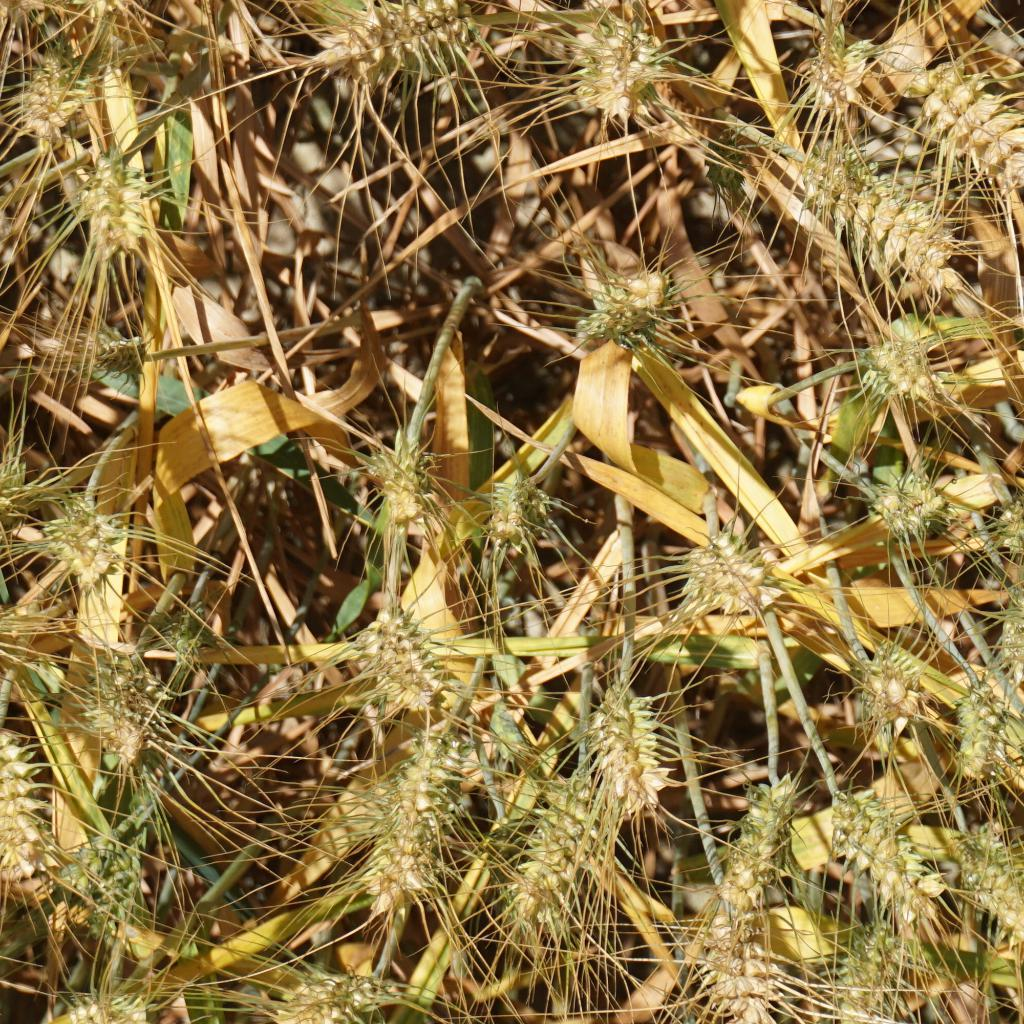0-0: (811, 143, 975, 286), (570, 678, 691, 817), (913, 58, 1024, 209), (372, 728, 465, 896), (296, 0, 495, 77), (834, 790, 942, 921), (668, 508, 790, 621), (0, 711, 69, 901), (530, 762, 606, 920), (34, 489, 137, 593), (693, 905, 781, 1021), (358, 431, 435, 563), (570, 256, 670, 354), (572, 8, 660, 118), (726, 773, 797, 907), (355, 598, 442, 700), (833, 330, 940, 410), (949, 822, 1024, 933), (835, 920, 915, 1024), (82, 158, 161, 259), (484, 461, 555, 570), (54, 319, 158, 384), (278, 965, 392, 1024), (851, 642, 913, 749), (480, 815, 540, 924), (947, 679, 1012, 772), (92, 844, 154, 939), (801, 28, 875, 103), (89, 693, 163, 760), (696, 131, 756, 209), (22, 58, 82, 135), (169, 605, 225, 673), (46, 984, 134, 1024), (872, 474, 941, 525), (98, 634, 141, 709), (65, 823, 108, 887), (0, 462, 36, 532), (989, 480, 1024, 552), (66, 0, 136, 22), (0, 0, 29, 10)
